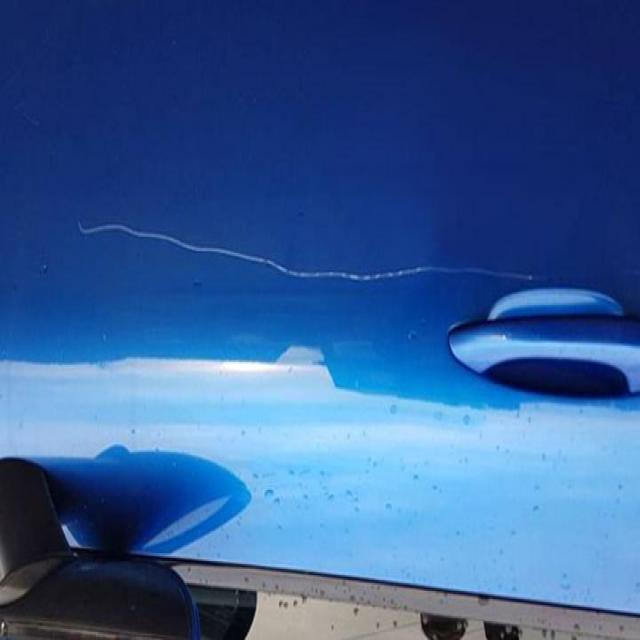scratch: (70, 207, 546, 308)
